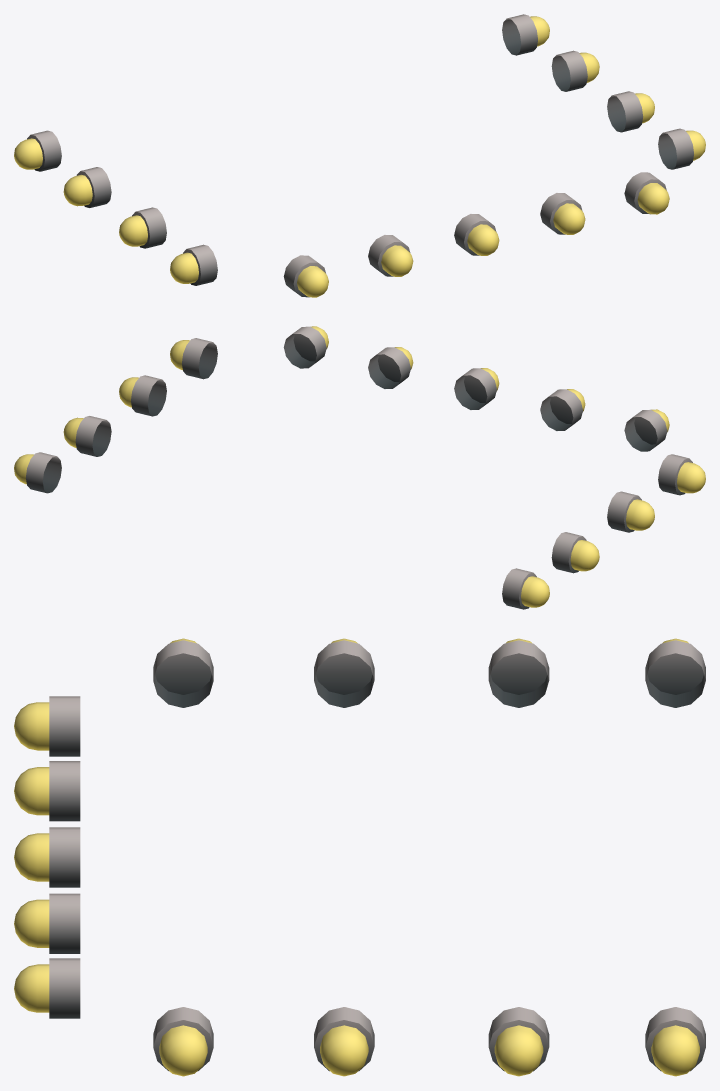
Rendered from Lamps_01.fbx.
3 renders of one model, top to bottom at view 1: azimuth 30°, elevation 25°; view 2: azimuth 150°, elevation 25°; view 3: azimuth 270°, elevation 25°, orthographic. The views are drawn at different scales.
Visible parts, largest first — view 1: Lamps_01; view 2: Lamps_01; view 3: Lamps_01.
Part boxes in pixels (bbox=[...]): Lamps_01: bbox=[14, 14, 705, 297]; Lamps_01: bbox=[14, 326, 705, 609]; Lamps_01: bbox=[14, 638, 705, 1076].
Size of the model in its own units: 135 by 96.49 by 8.45.
